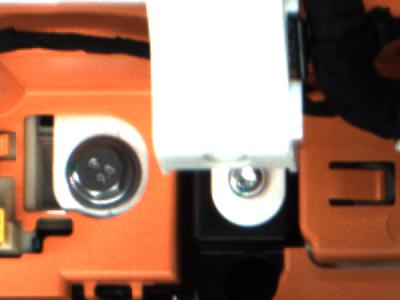nut_b: (66, 141, 148, 209)
